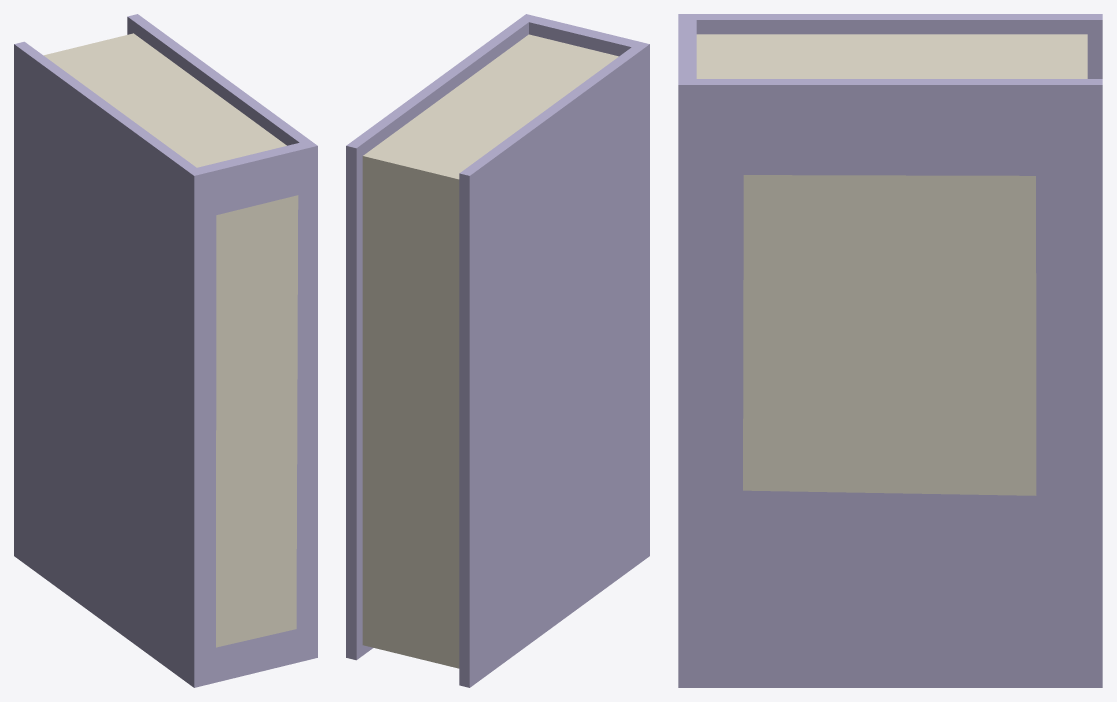
Rendered from book16.fbx.
The picture shows the model from 3 angles, left to right: view 1: azimuth 30°, elevation 25°; view 2: azimuth 150°, elevation 25°; view 3: azimuth 270°, elevation 25°; orthographic projection. The views are drawn at different scales.
Visible parts, largest first — view 1: Boole_4; view 2: Boole_4; view 3: Boole_4.
Part boxes in pixels (x1=…): Boole_4: x1=14, y1=14, x2=317, y2=687; Boole_4: x1=346, y1=14, x2=649, y2=687; Boole_4: x1=678, y1=14, x2=1102, y2=687.
Bounding box in the file's own units: 11.73 × 46.4 × 29.58.
